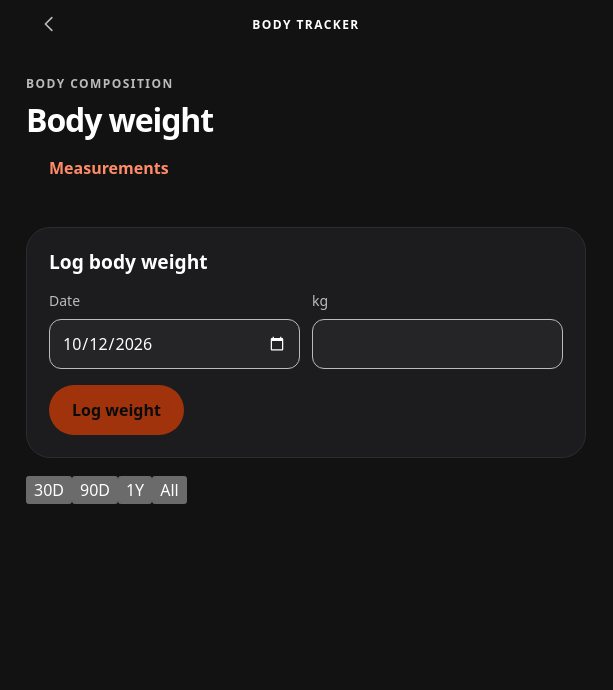
Test case: logs canonical bodyweight and persists a weight goal
The width and height of the screenshot is (613, 690).
Expected: the heading "Body weight" is shown, [26,98,213,141]
Type "81.5" into the number field labelled "kg" at (438, 344), box [312,319,563,369]
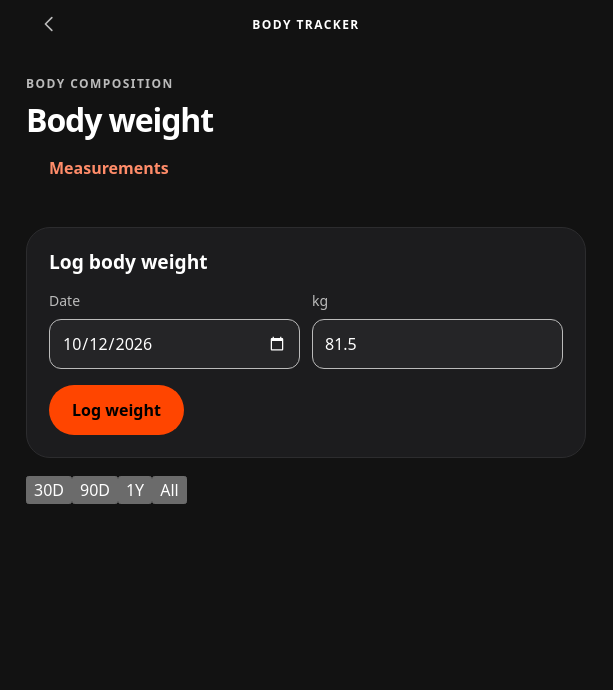
Click the button "Log weight" at (116, 410), box [49,385,184,435]
(page scrolled)
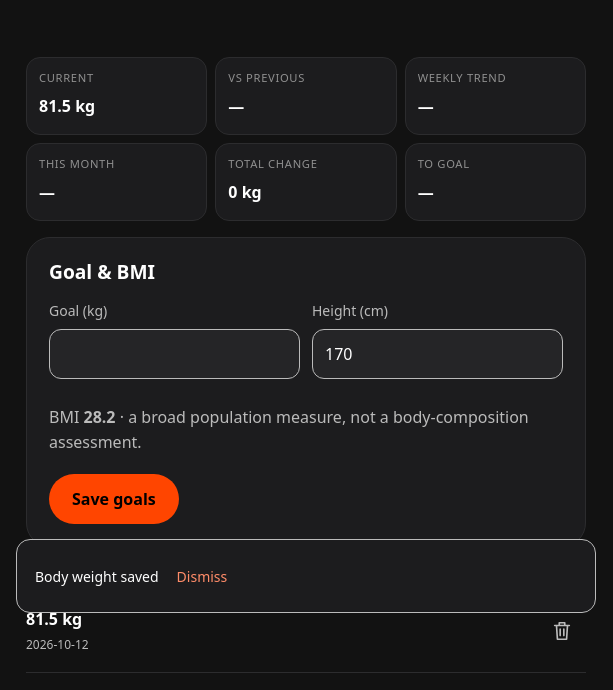
Expected: the button "Save goals" is enabled, [49,474,179,524]
Expected: the text "Body weight saved" is shown, [35,566,159,586]
Type "78" into the number field labelled "Goal (kg)" at (174, 354), box [49,329,300,379]
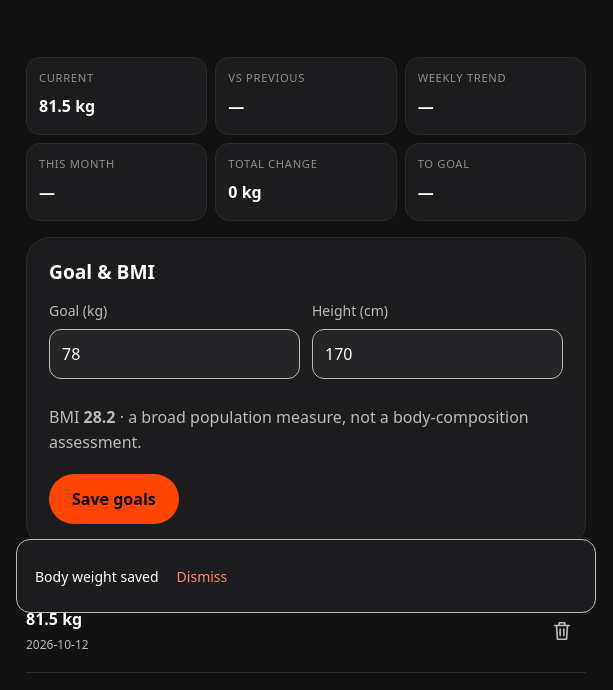
Click the button "Save goals" at (114, 499), box [49,474,179,524]
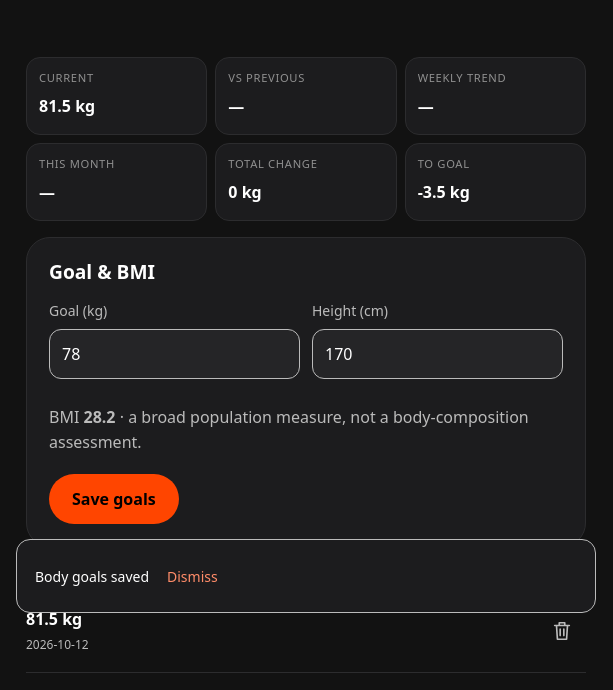
Expected: the text "Body goals saved" is shown, [35,566,149,586]
